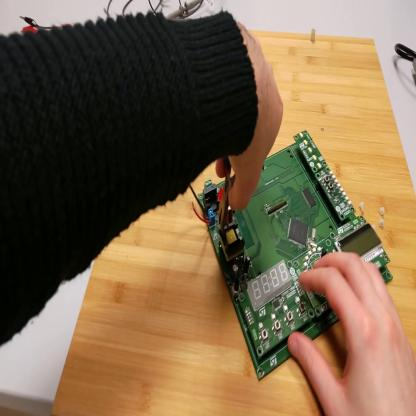hand: (290, 252, 416, 414), (203, 17, 286, 211)
low voltage board: (191, 132, 394, 381)
oscilloscope probe tip: (167, 1, 202, 22)
pliers: (217, 157, 239, 231)
working area: (51, 29, 416, 414)
